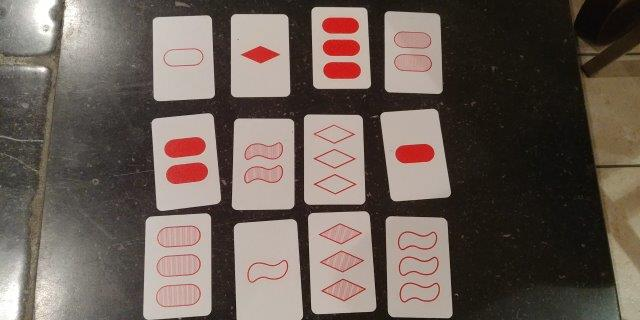1EP: (157, 18, 209, 97)
1EW: (239, 224, 295, 318)
1FD: (234, 15, 284, 95)
1FP: (390, 113, 436, 195)
2FP: (158, 120, 210, 204)
2HP: (388, 15, 436, 91)
2HW: (236, 121, 289, 205)
3ED: (307, 116, 360, 203)
3EW: (388, 219, 444, 315)
3FP: (315, 9, 365, 86)
3HD: (312, 214, 368, 309)
3HP: (148, 217, 207, 315)
